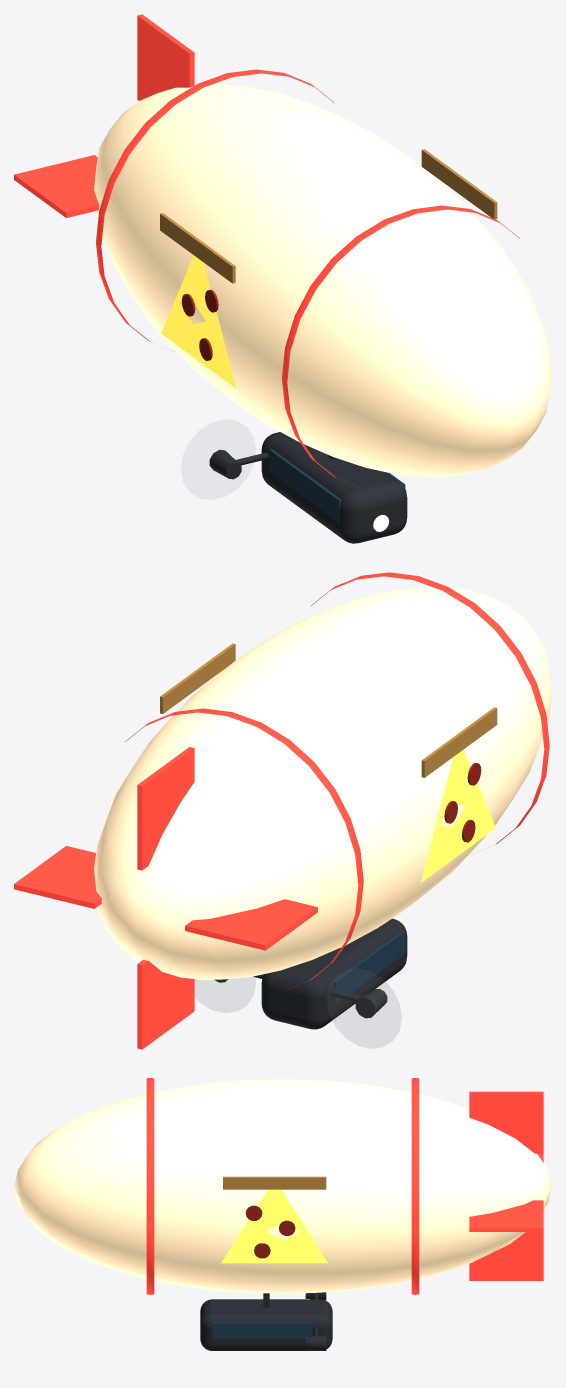
File: pizza-blimp.glb
3 renders of one model, top to bottom at view 1: azimuth 30°, elevation 25°; view 2: azimuth 150°, elevation 25°; view 3: azimuth 270°, elevation 25°, orthographic. The views are drawn at different scales.
Parts seen in each view (by area): view 1: blimp paint, blimp red, blimp car, blimp slice, blimp prop blur, blimp crust, blimp glass, blimp pepperoni; view 2: blimp paint, blimp red, blimp car, blimp prop blur, blimp slice, blimp crust, blimp glass, blimp pepperoni; view 3: blimp paint, blimp red, blimp car, blimp slice, blimp glass, blimp crust, blimp pepperoni.
Part boxes in pixels (x1,y1,x2,y2): blimp paint: (94,84,551,477); blimp red: (14,14,519,481); blimp car: (209,432,407,543); blimp slice: (161,255,236,388); blimp prop blur: (181,420,255,499); blimp crust: (160,149,497,283); blimp glass: (269,449,405,522); blimp pepperoni: (181,289,218,360); blimp paint: (94,587,551,979); blimp red: (14,572,549,1049); blimp car: (214,918,407,1029); blimp prop blur: (195,968,401,1048); blimp slice: (421,749,495,882); blimp crust: (160,643,497,777); blimp glass: (333,930,405,1004); blimp pepperoni: (444,763,481,842); blimp paint: (14,1079,551,1293); blimp red: (146,1078,543,1294); blimp car: (200,1292,332,1350); blimp slice: (221,1189,327,1263); blimp glass: (212,1322,311,1338); blimp crust: (223,1176,326,1189); blimp pepperoni: (245,1205,295,1258).
Size of the model in its own units: 5.26 by 6.86 by 13.
